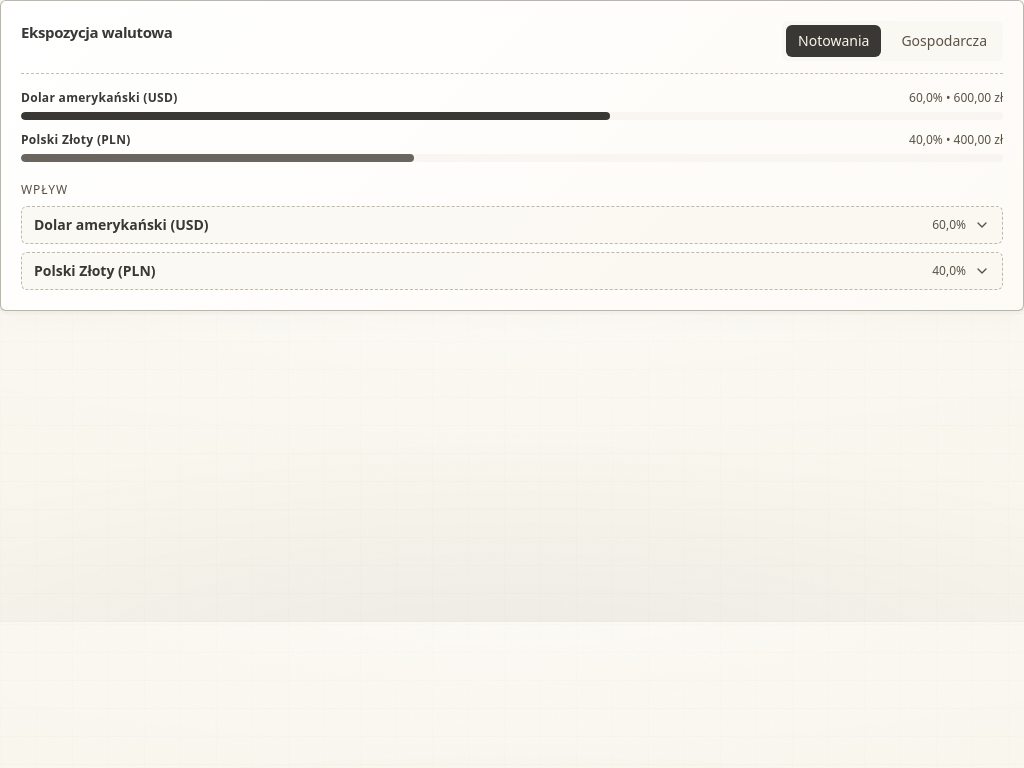
it: CurrencyExposureWidget › renders pending source data notice without retry CTA
This screenshot has width=1024, height=768.
Click the button "Gospodarcza" at (944, 41), box [889,25,999,57]
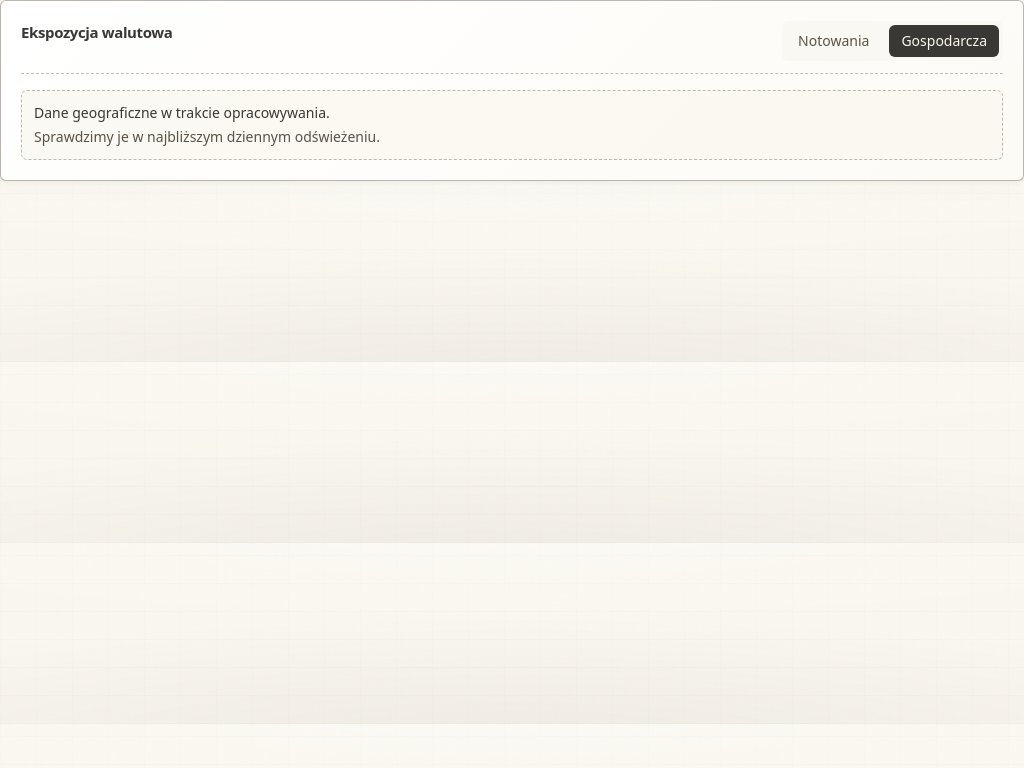
Check: the text "Dane geograficzne w trakcie opracowywania." is shown, box [34,103,330,122]
Check: the text "Sprawdzimy je w najbliższym dziennym odświeżeniu." is shown, box [34,127,380,146]
